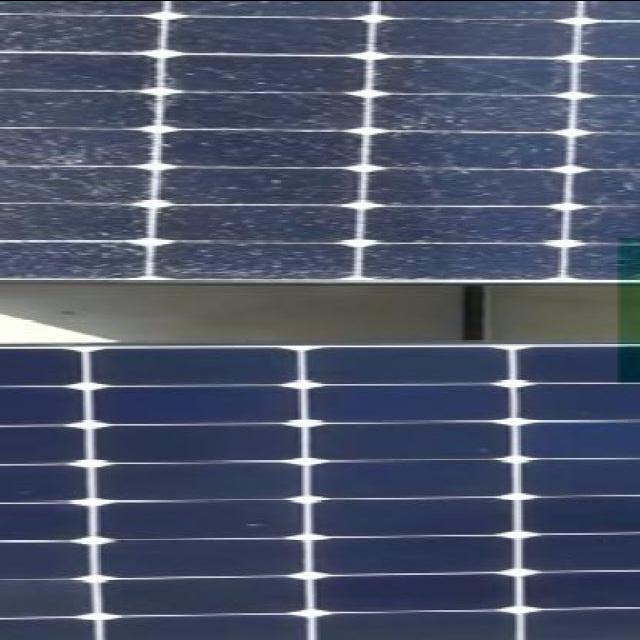cracked: (1, 0, 640, 280)
